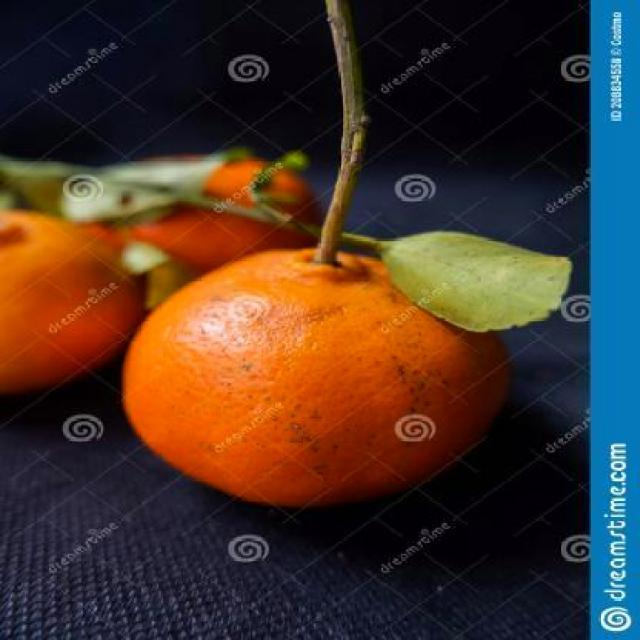Jeruk Sudah Matang: (124, 242, 496, 504), (96, 153, 316, 290), (0, 211, 137, 392)
